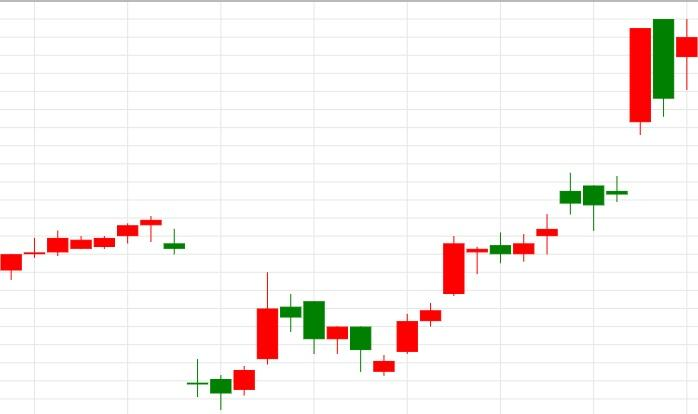three_white_soldiers_rise: (257, 272, 442, 376)
